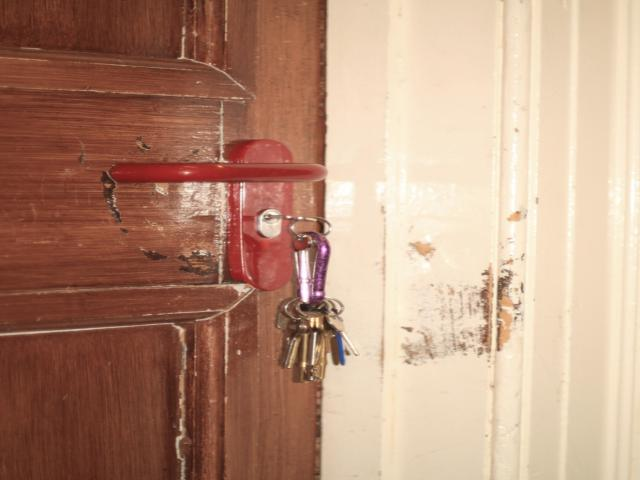Door-handle: (109, 138, 329, 297)
